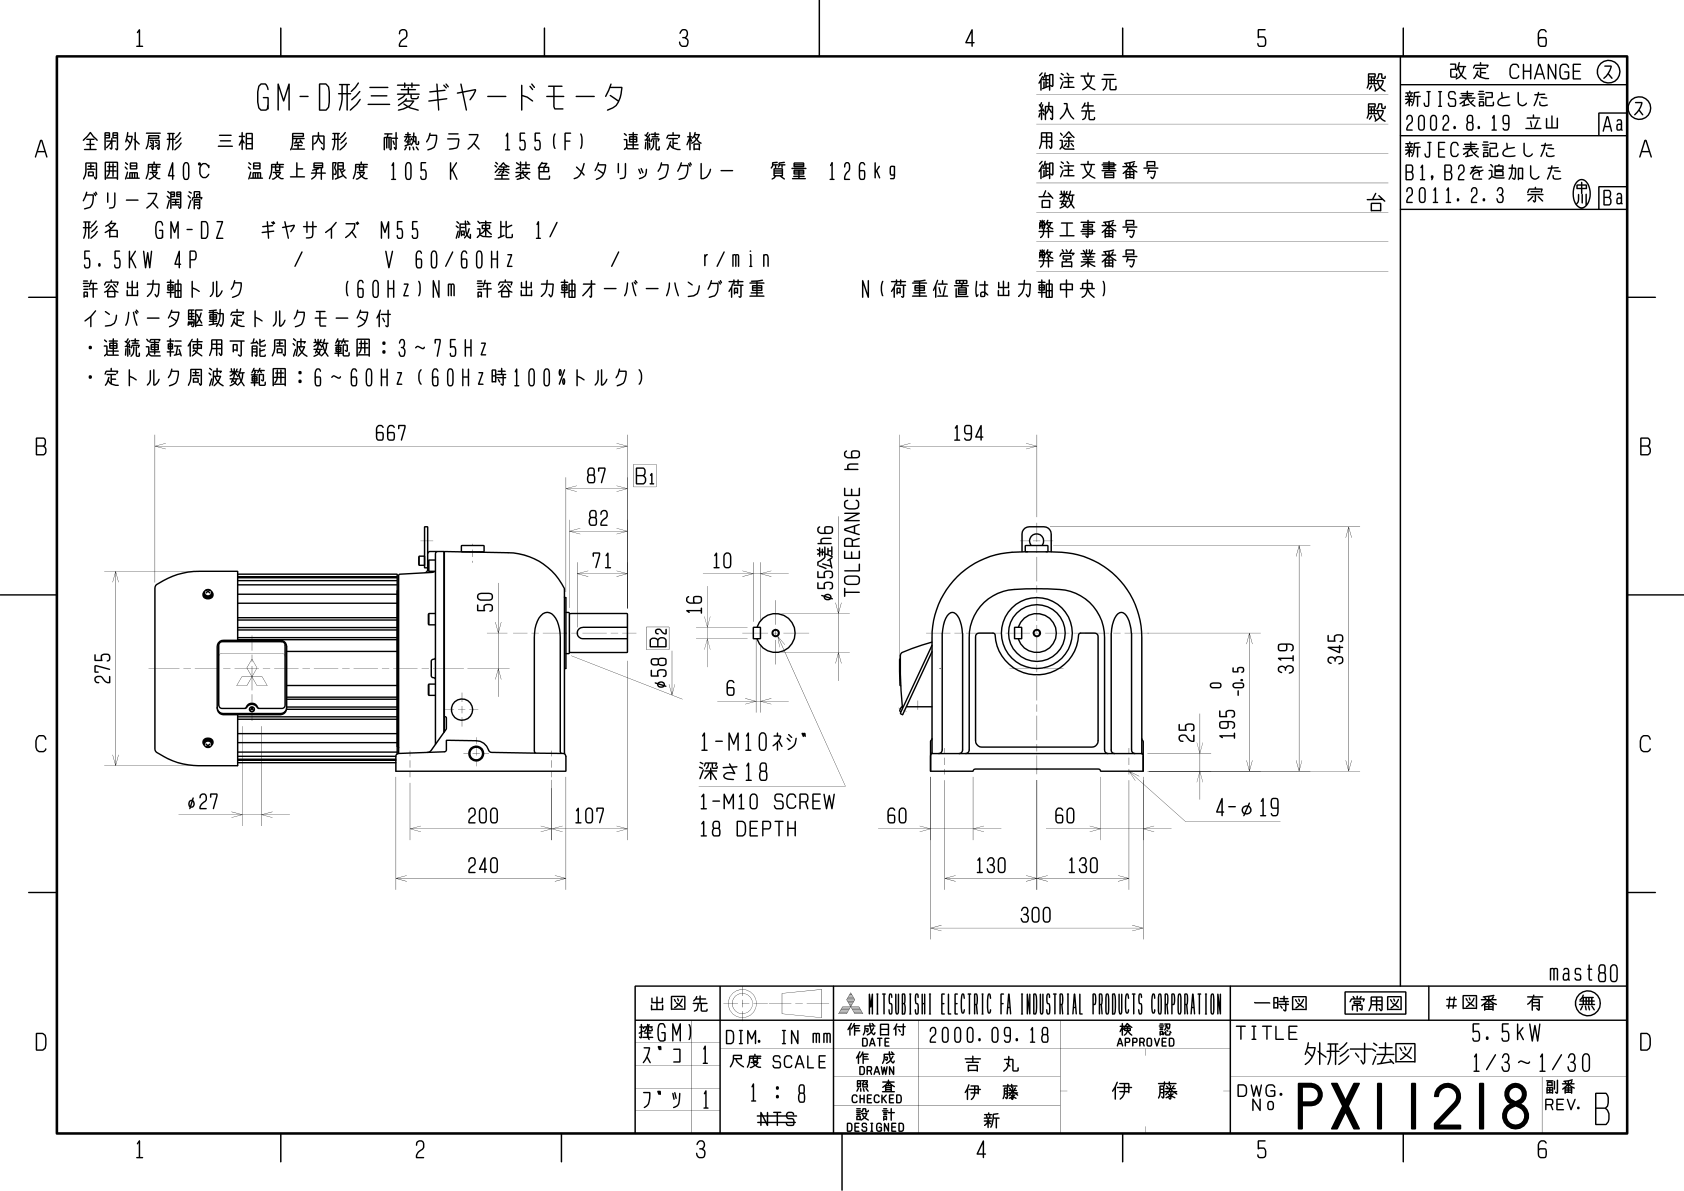GM_D_インバータ屋内_三相_脚: (10, 4, 1684, 1191)
